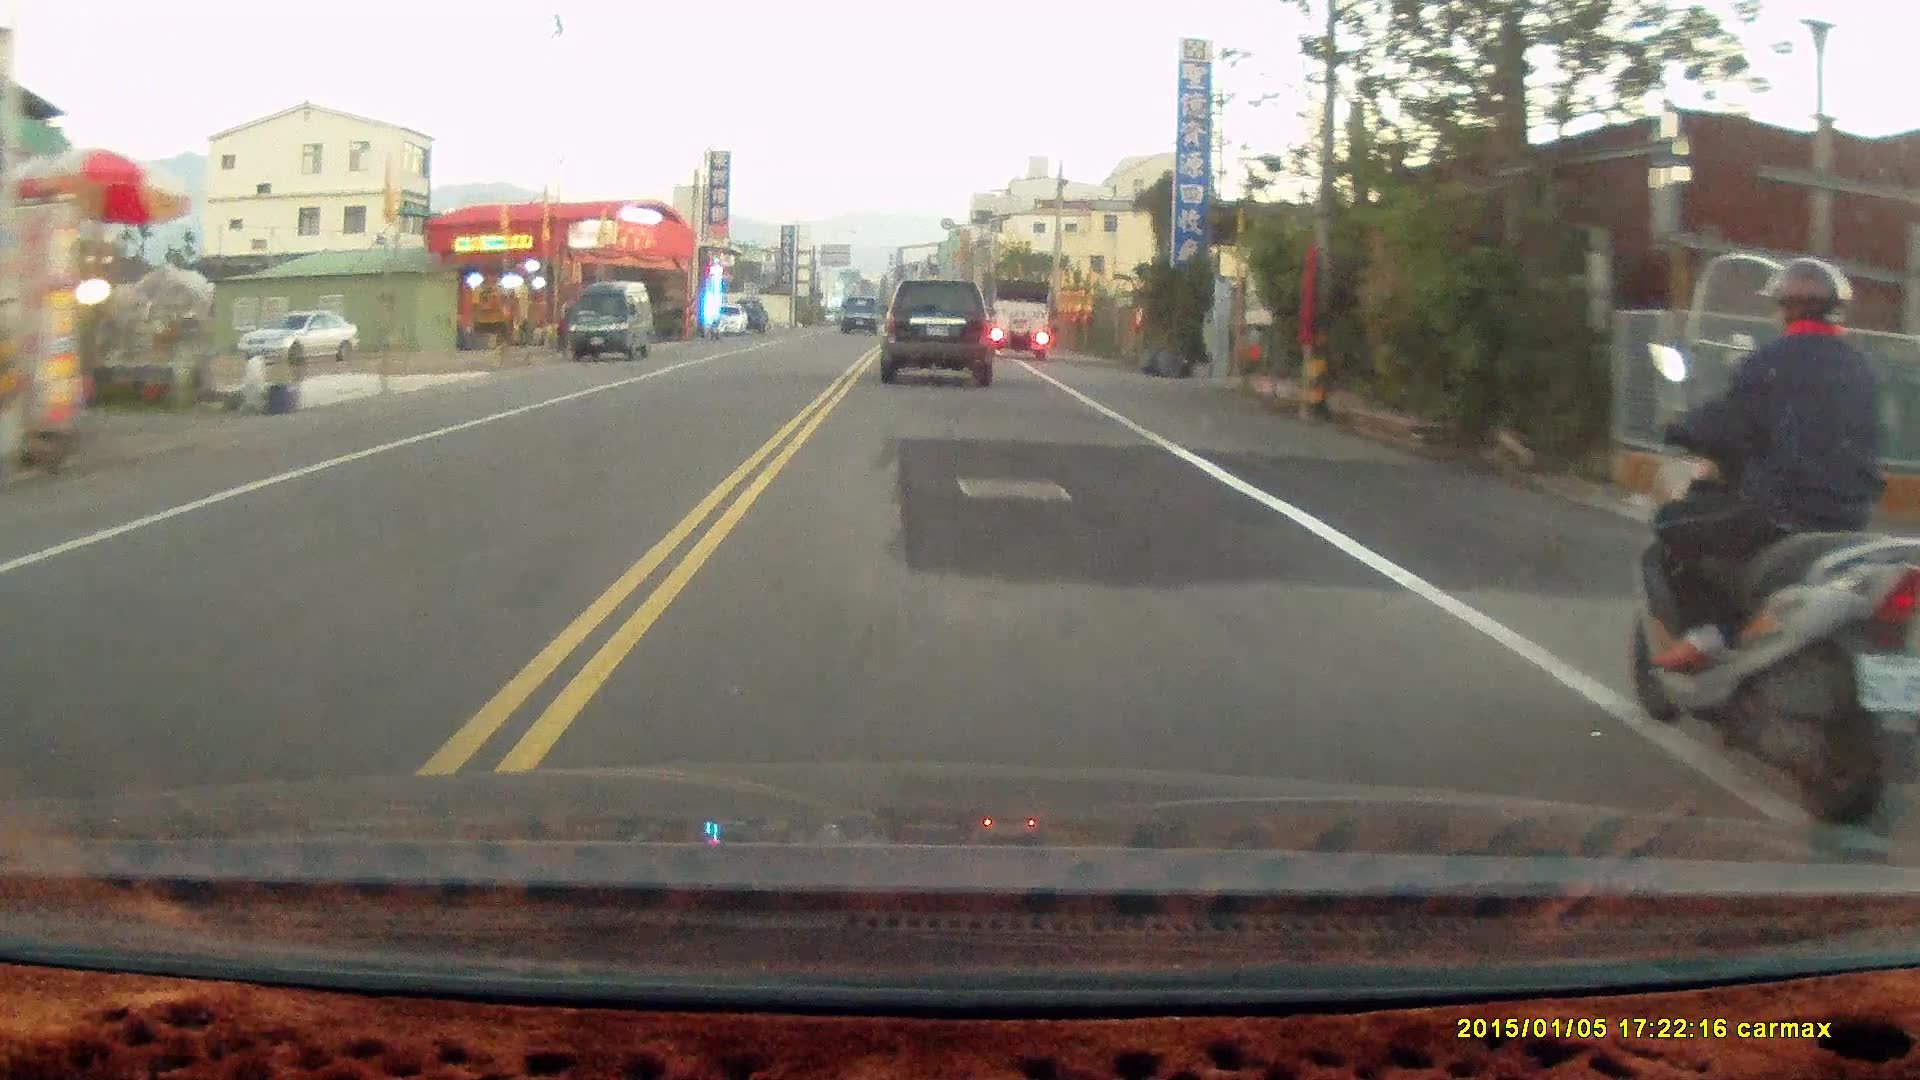rider: (1621, 254, 1919, 826)
vehicle: (880, 278, 1000, 387), (568, 283, 653, 362), (236, 314, 358, 366), (989, 273, 1055, 358)
